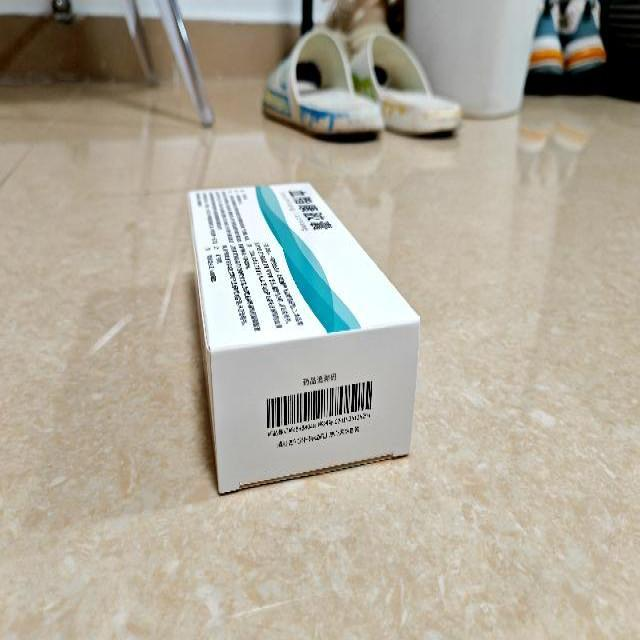box: (191, 182, 421, 494)
